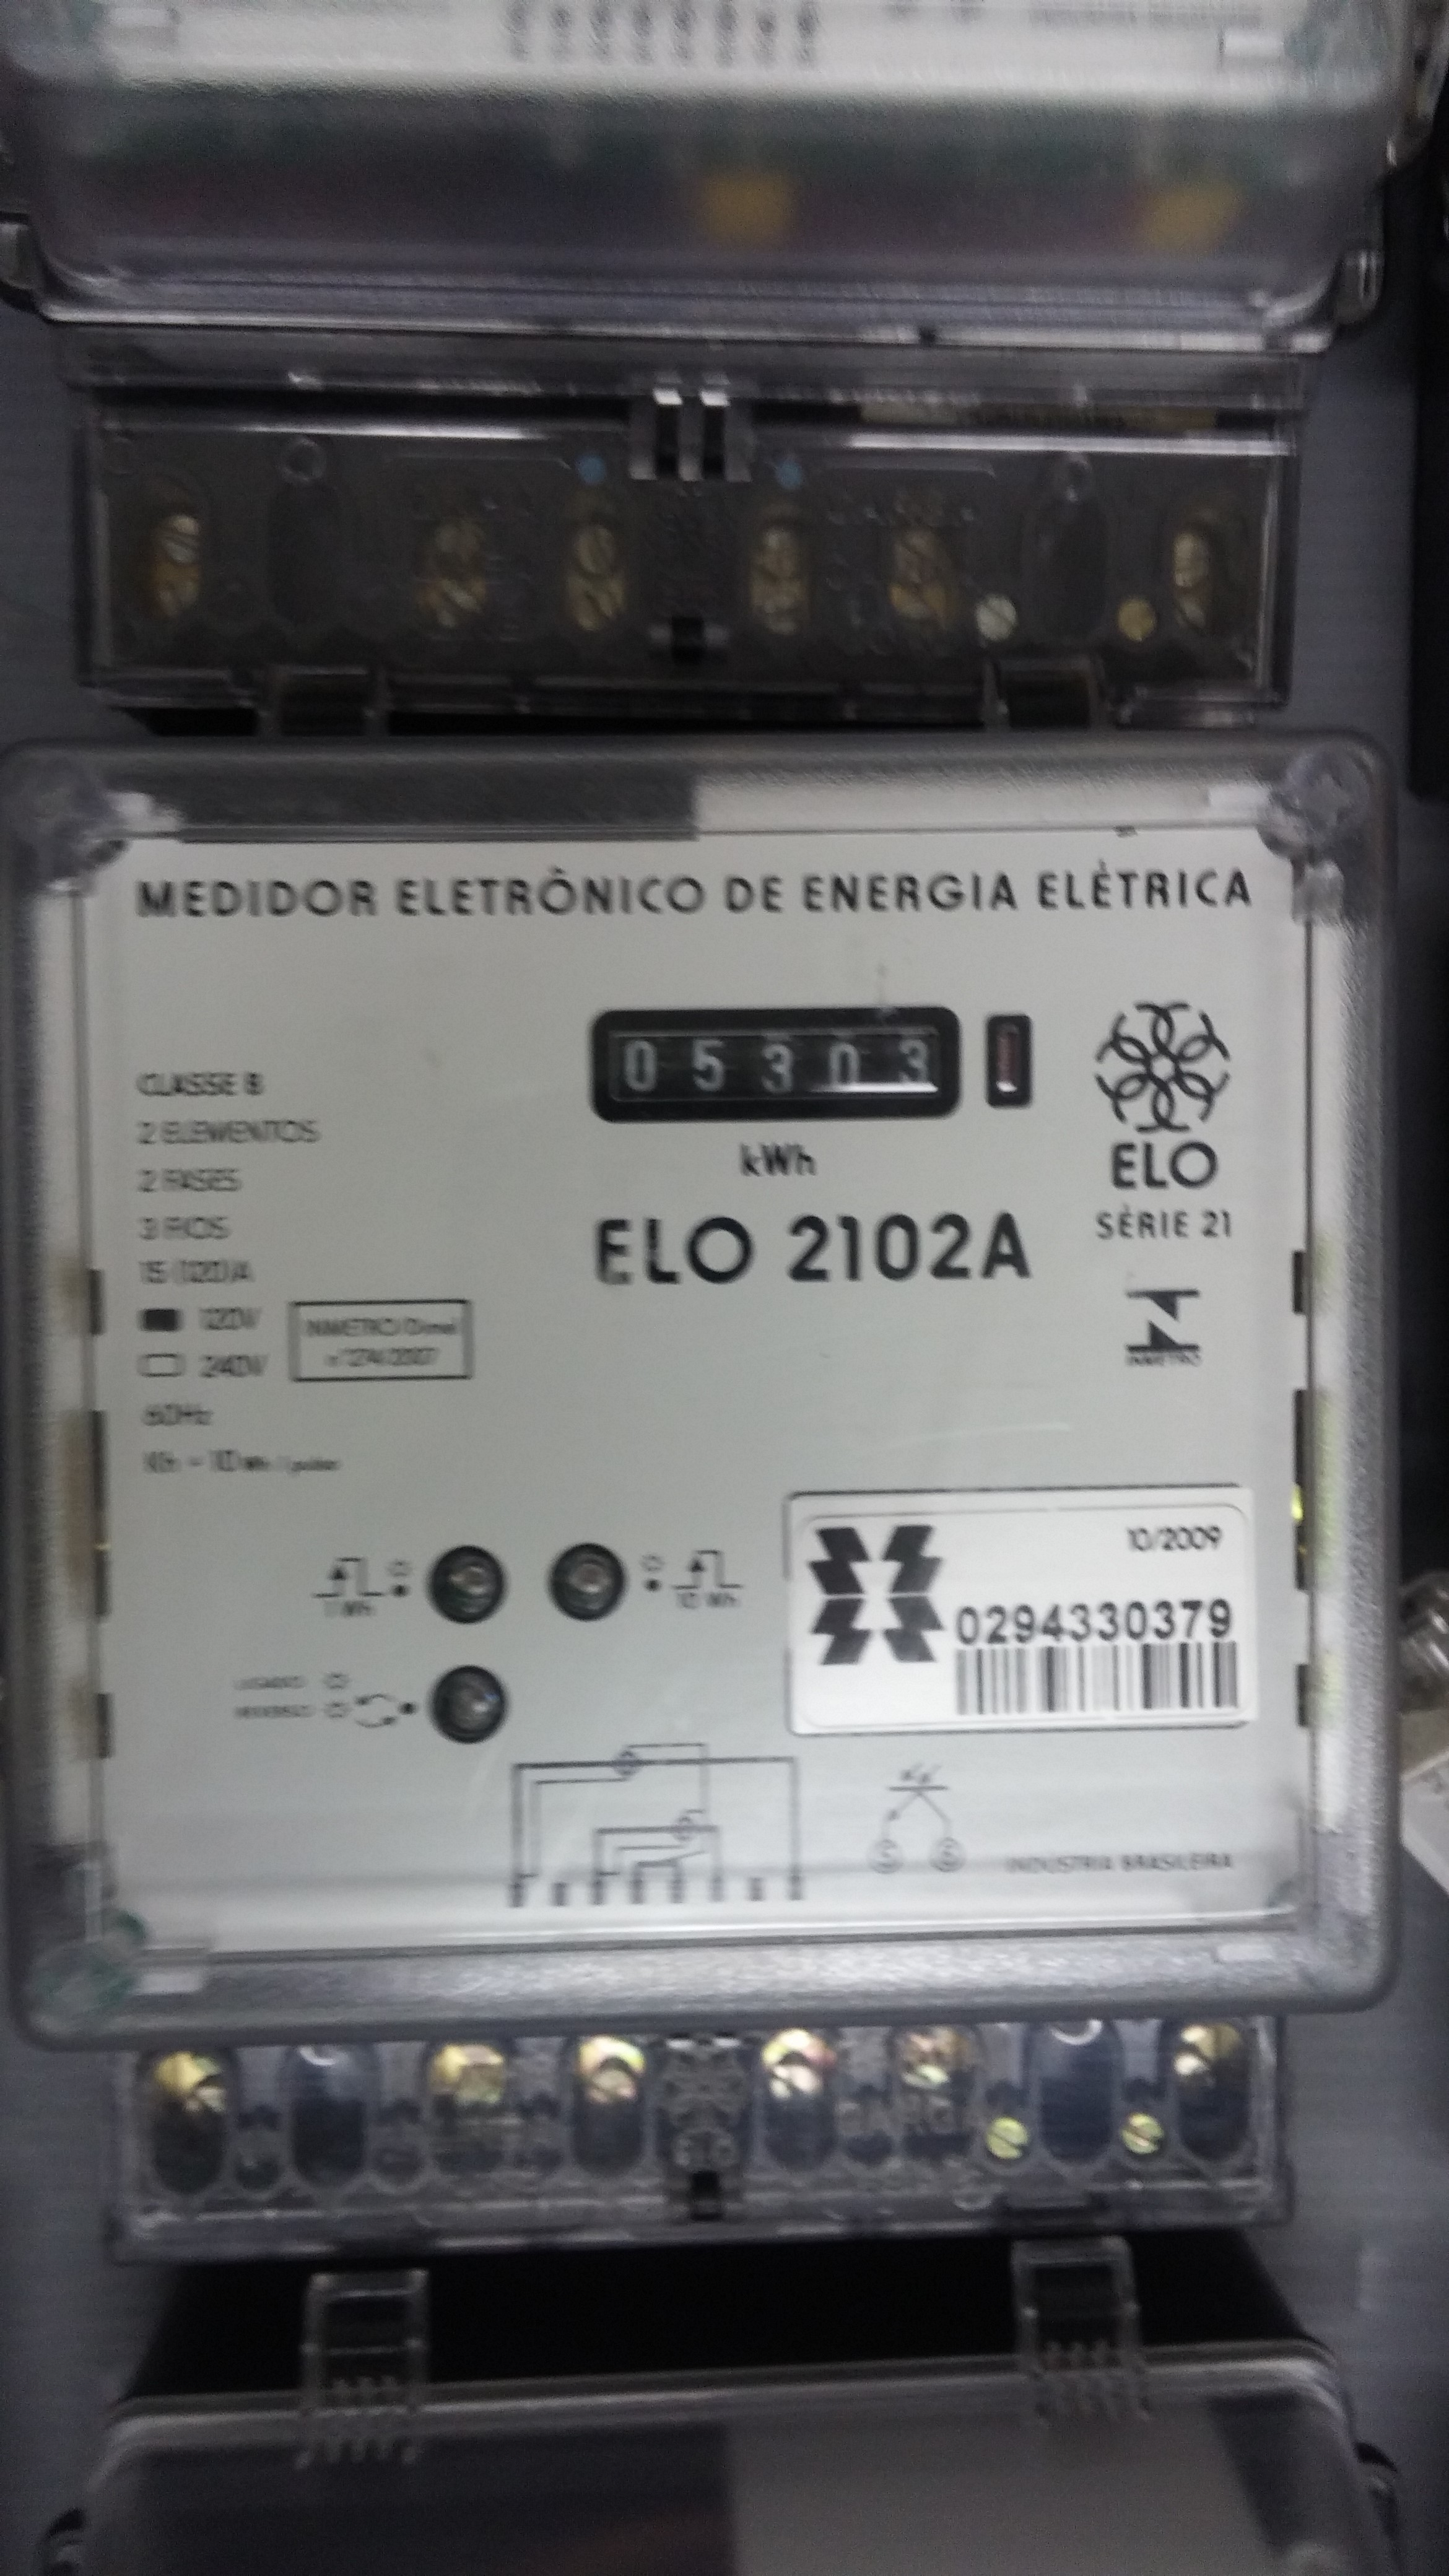counter2: (591, 1005, 964, 1113)
